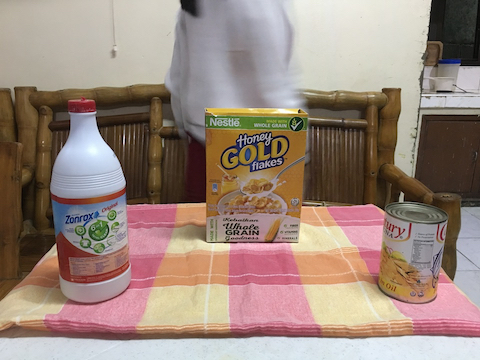bottle: (48, 97, 135, 305)
box: (203, 106, 309, 244)
can: (377, 200, 453, 307)
